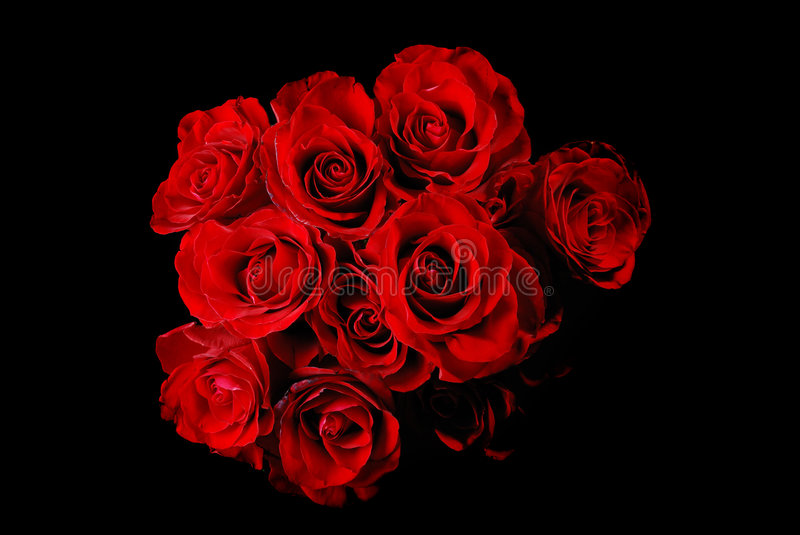RedRose: (373, 214, 562, 426), (381, 45, 531, 210), (527, 140, 661, 292), (262, 81, 381, 230), (274, 375, 414, 491), (181, 216, 323, 329), (286, 239, 400, 356), (151, 96, 262, 216), (169, 317, 265, 454)
